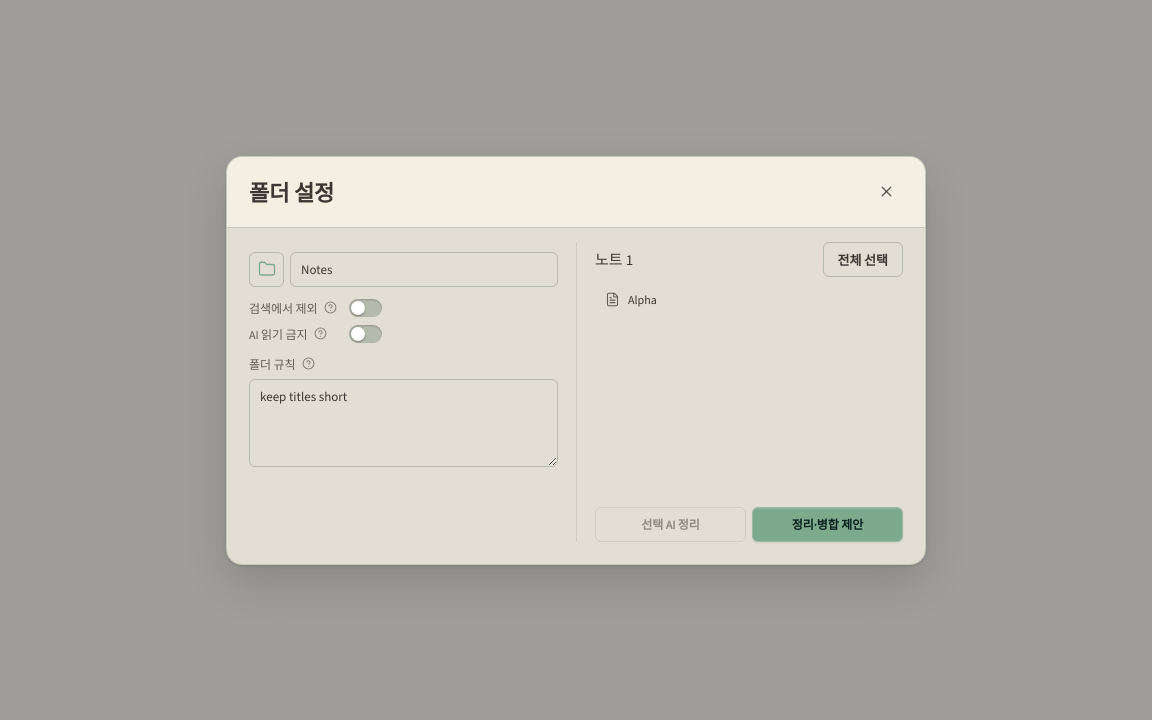
Test: FolderOrganizeModal › flipping the switch on locks the editor right away and keeps the text
Expected: the text "Alpha" is shown, [628,292,657,308]
Expected: the text box with test id "folder-rules" is enabled, [249,378,558,466]
Click the switch with test id "folder-ai-excluded-toggle": (365, 334) [349,324,382,342]
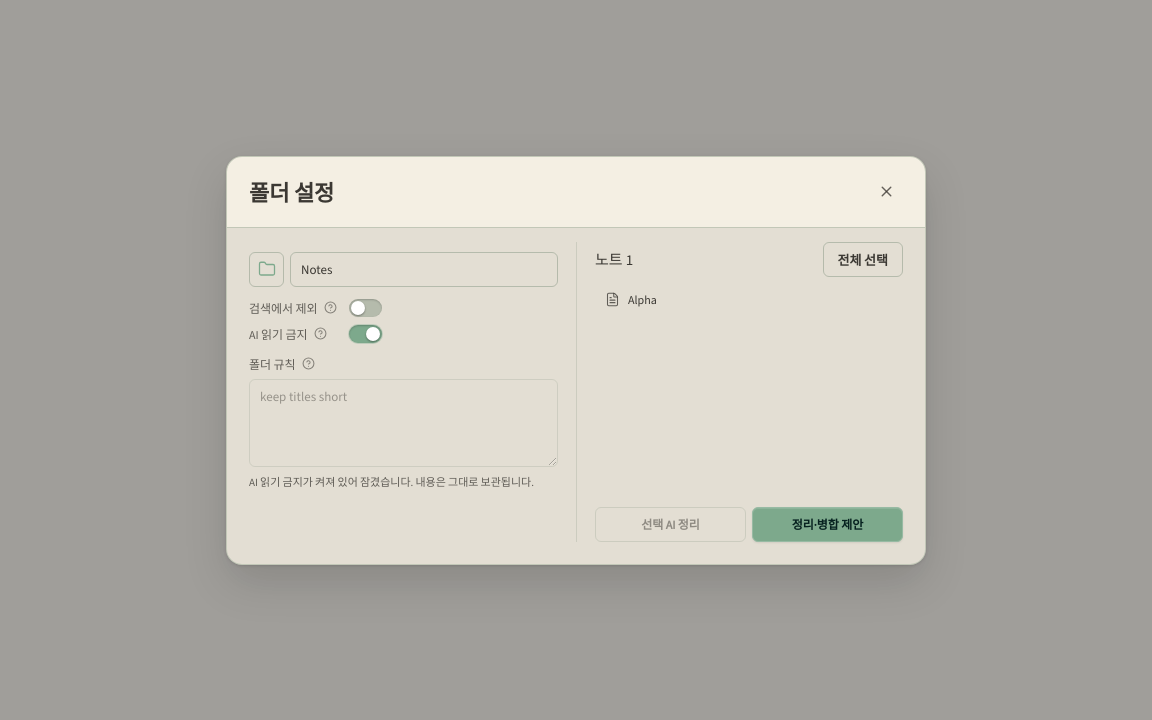
Expected: the text box with test id "folder-rules" holds "keep titles short", [249,378,558,466]
Now the text box with test id "folder-rules" is disabled, box [249,378,558,466]
